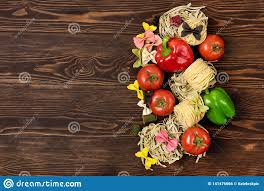Tomato: (158, 38, 192, 70), (148, 89, 180, 114), (135, 68, 168, 92), (182, 129, 209, 153), (200, 35, 222, 51)
